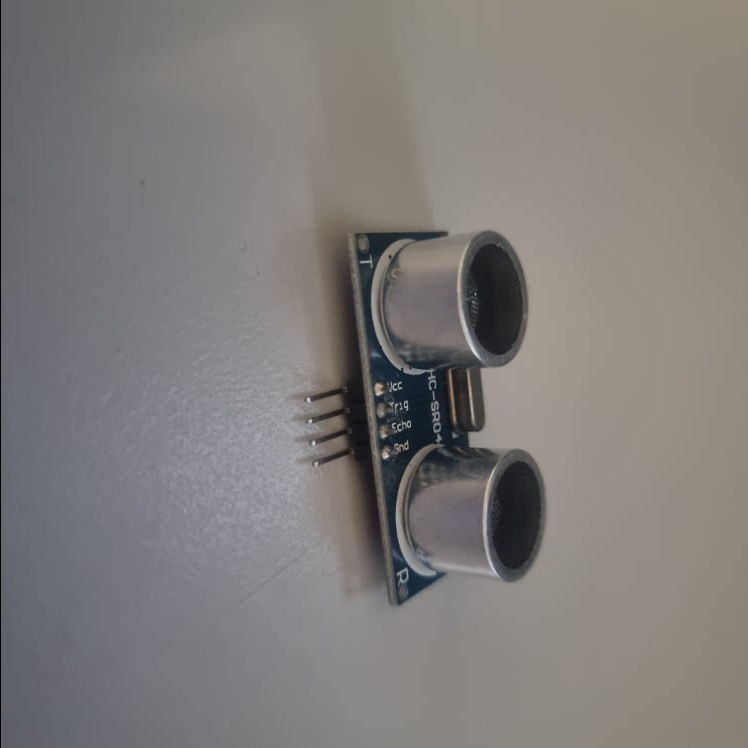SENSOR: (307, 230, 543, 606)
